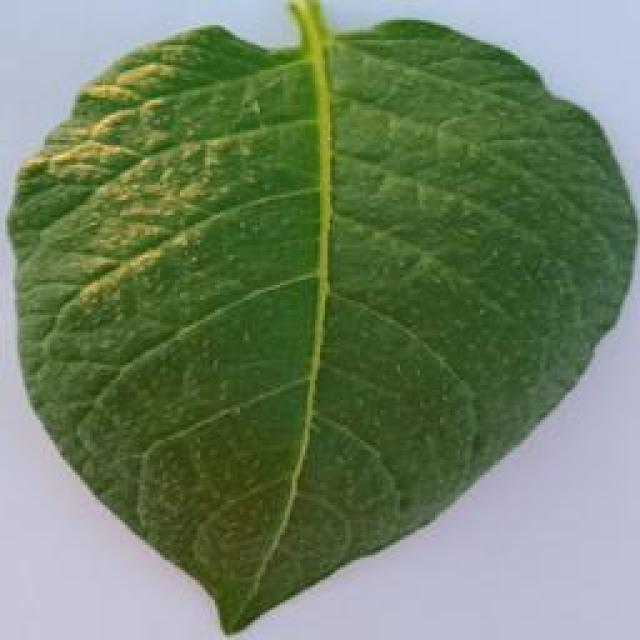Potato_Healthy: (10, 8, 625, 636)
